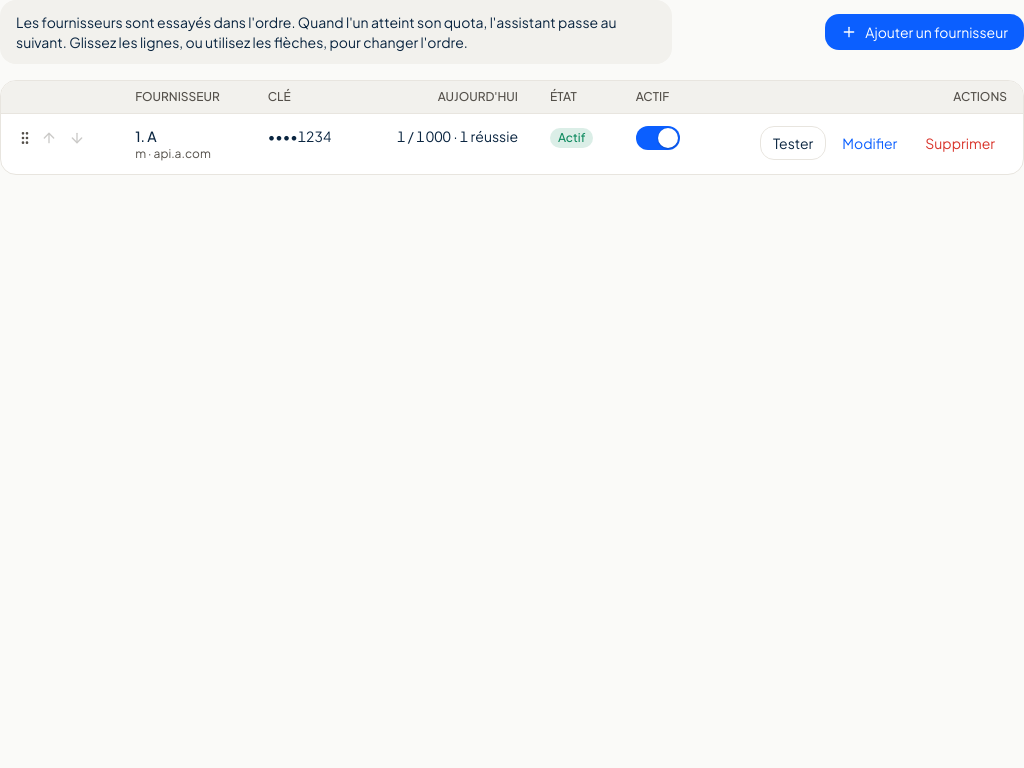
Scenario: /assistant › suppression : passe par la confirmation, annulable
The width and height of the screenshot is (1024, 768).
Click the button with test id "provider-delete-a" at point(960, 143), box [913,127,1007,159]
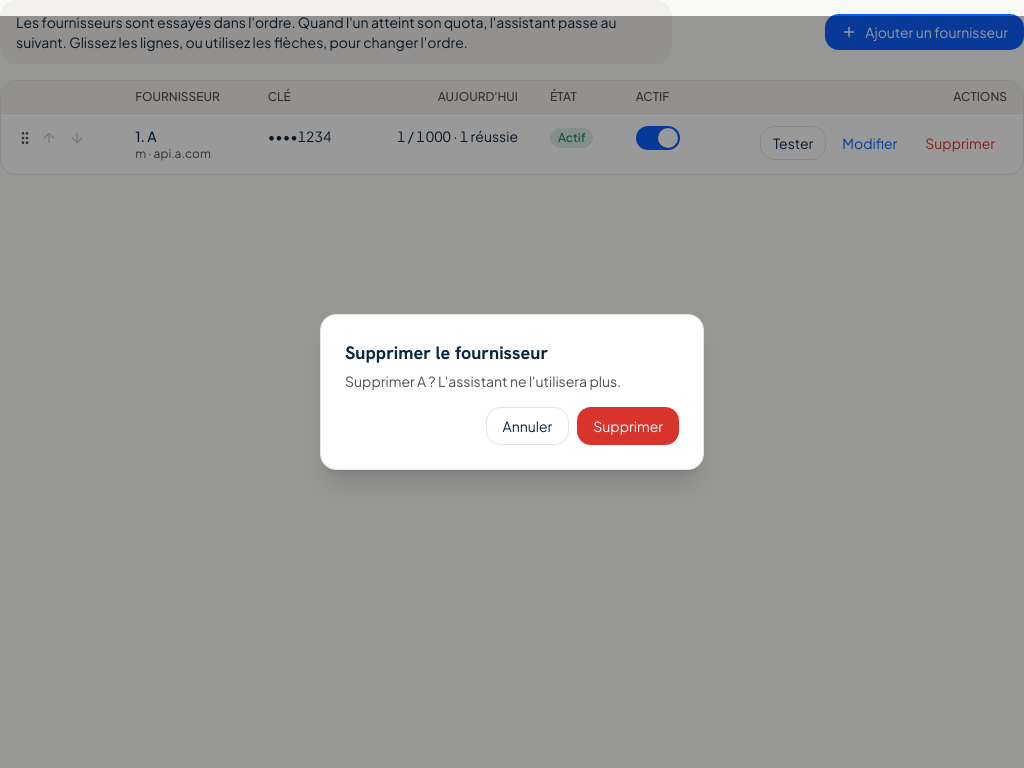
Now the text "Supprimer le fournisseur" is shown, box [345,341,548,364]
Click the button "Annuler" at point(527, 426), box [486,407,569,445]
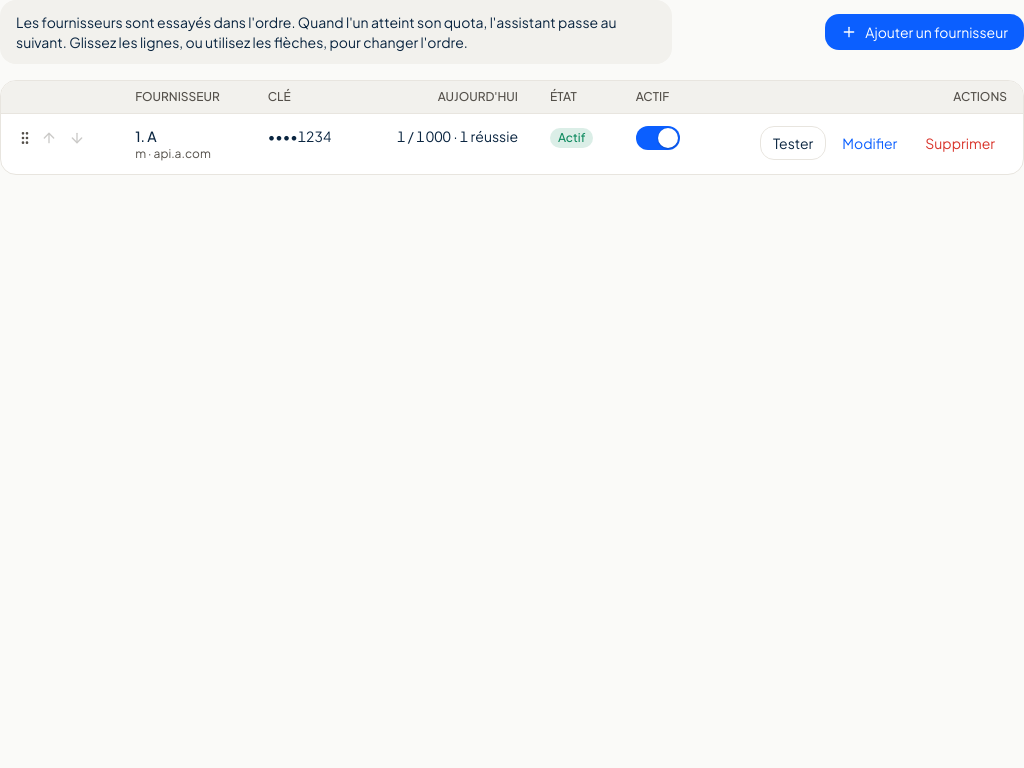
Now the text "Supprimer le fournisseur" is gone
